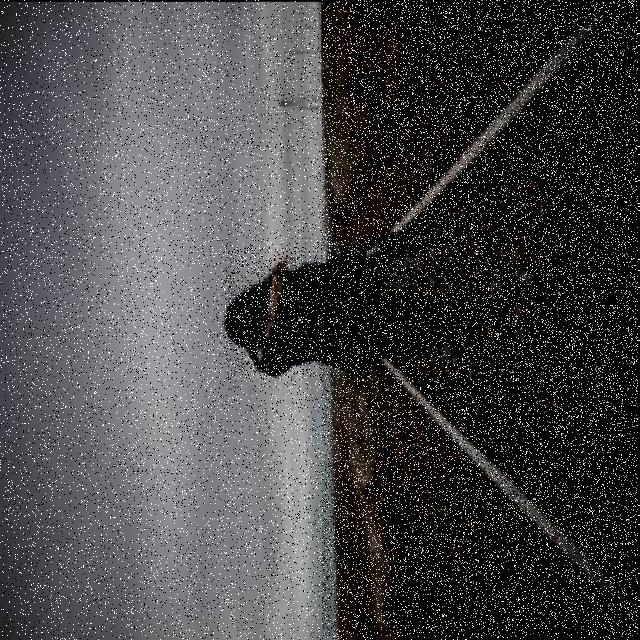rail: (323, 1, 640, 637)
